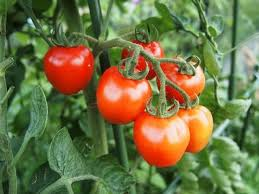tomato: (95, 65, 152, 124), (135, 110, 189, 166), (45, 40, 95, 94), (159, 57, 206, 104), (175, 104, 215, 153), (122, 37, 164, 81)
